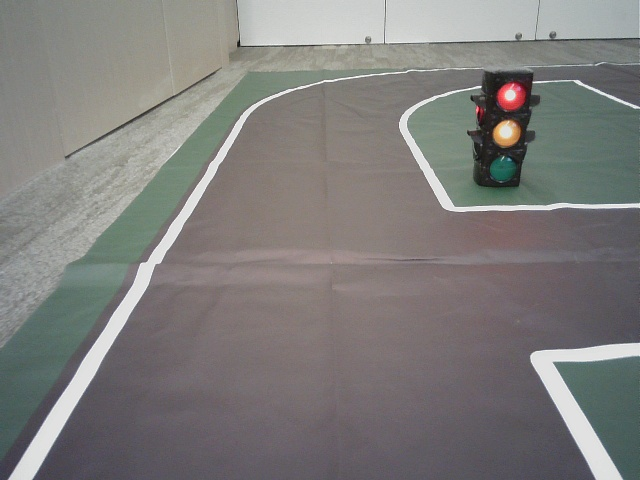red: (483, 80, 524, 183)
